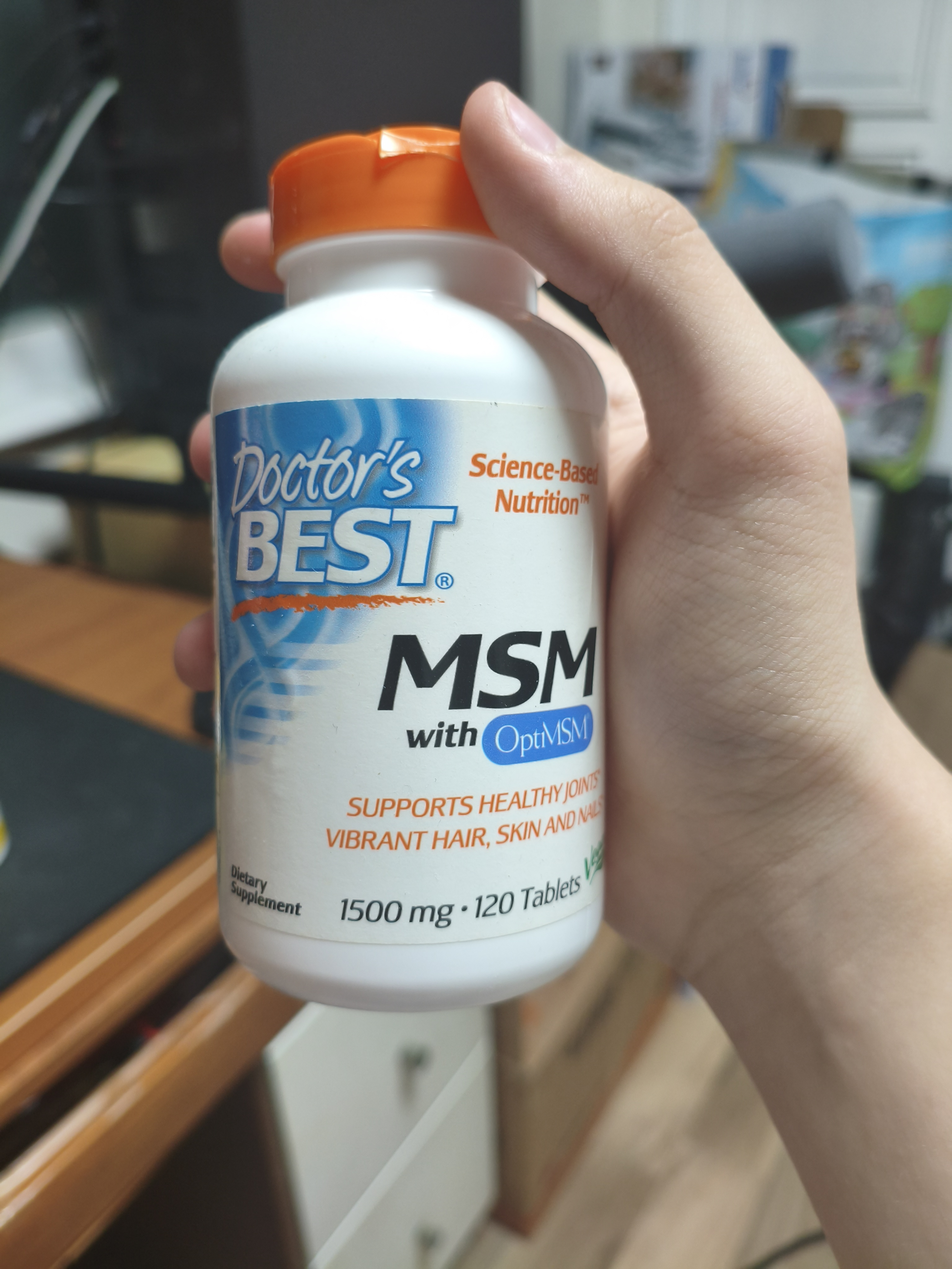supplement_label: (186, 387, 640, 955)
